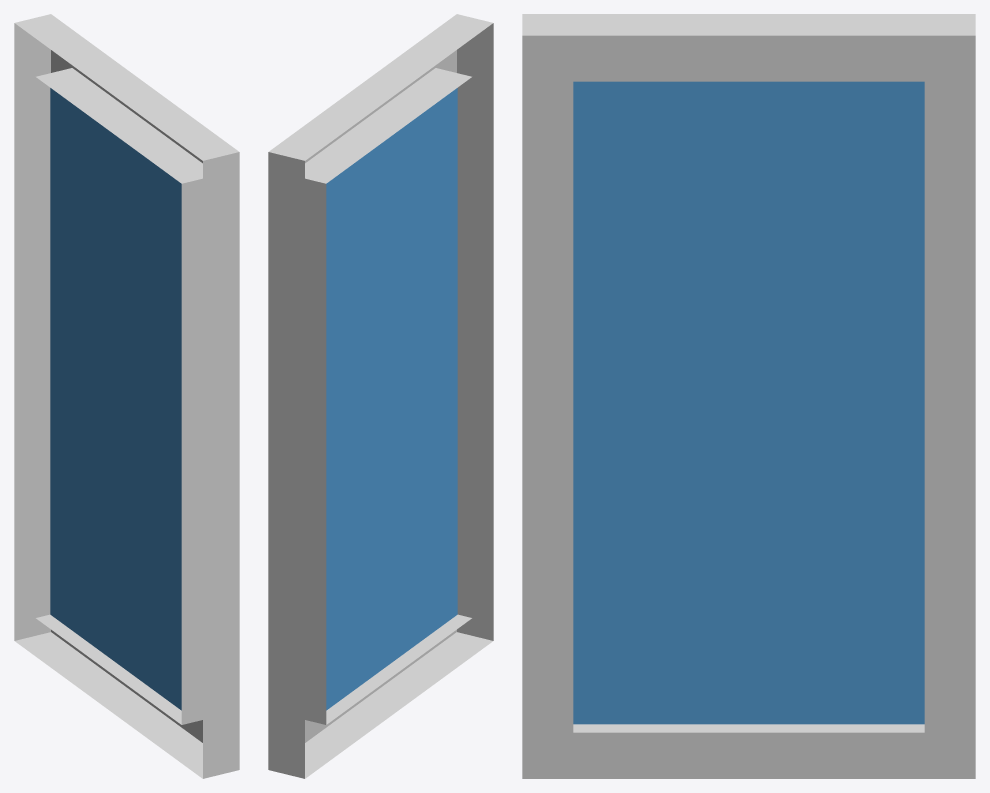
Rendered from vitre.glb.
The picture shows the model from 3 angles, left to right: view 1: azimuth 30°, elevation 25°; view 2: azimuth 150°, elevation 25°; view 3: azimuth 270°, elevation 25°; orthographic projection. The views are drawn at different scales.
Parts seen in each view (by area): view 1: Cube; view 2: Cube; view 3: Cube.
Boxes of the visible parts, bbox=[...] form: Cube: bbox=[14, 14, 239, 778]; Cube: bbox=[268, 14, 493, 778]; Cube: bbox=[522, 14, 975, 778].
Size of the model in its own units: 0.1 by 1.61 by 0.89.
